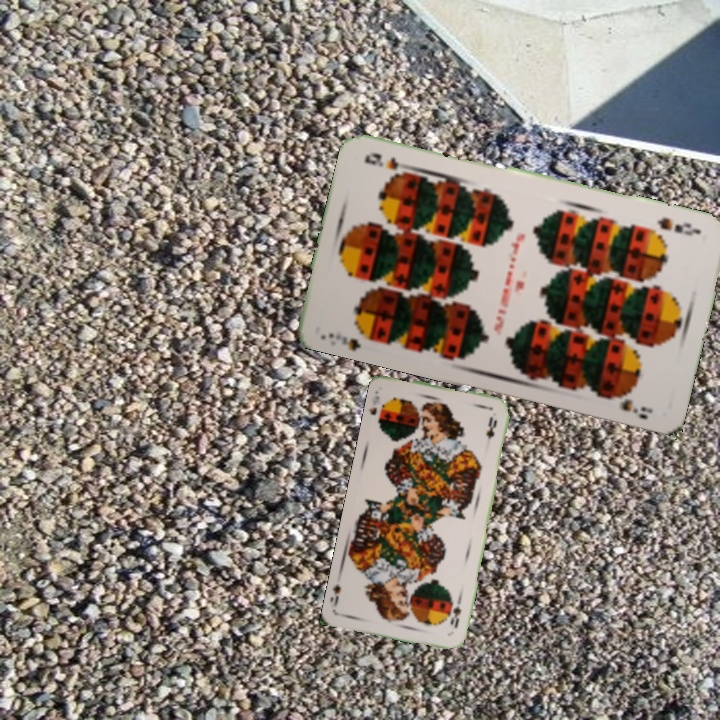S9: (324, 327, 378, 352), (653, 213, 703, 238)
SO: (368, 386, 388, 428), (446, 595, 464, 631)
